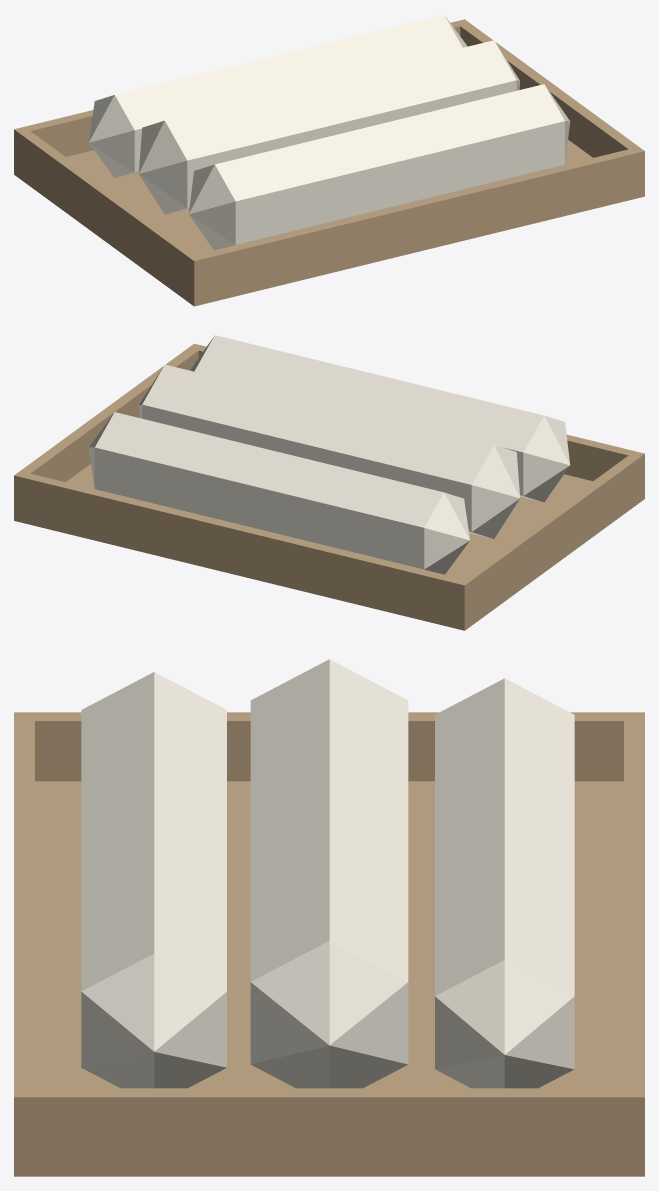
The model's file is prop-rolag-tray.fbx.
3 views of the same model, one above another, from view 1: azimuth 30°, elevation 25°; view 2: azimuth 150°, elevation 25°; view 3: azimuth 270°, elevation 25° (orthographic). The views are drawn at different scales.
Visible parts, largest first — view 1: prop-rolag-tray; view 2: prop-rolag-tray; view 3: prop-rolag-tray.
Boxes of the visible parts, bbox=[...] form: prop-rolag-tray: bbox=[14, 14, 644, 306]; prop-rolag-tray: bbox=[14, 335, 644, 630]; prop-rolag-tray: bbox=[14, 659, 644, 1176].
Bounding box in the file's own units: 26 × 5.8 × 18.
